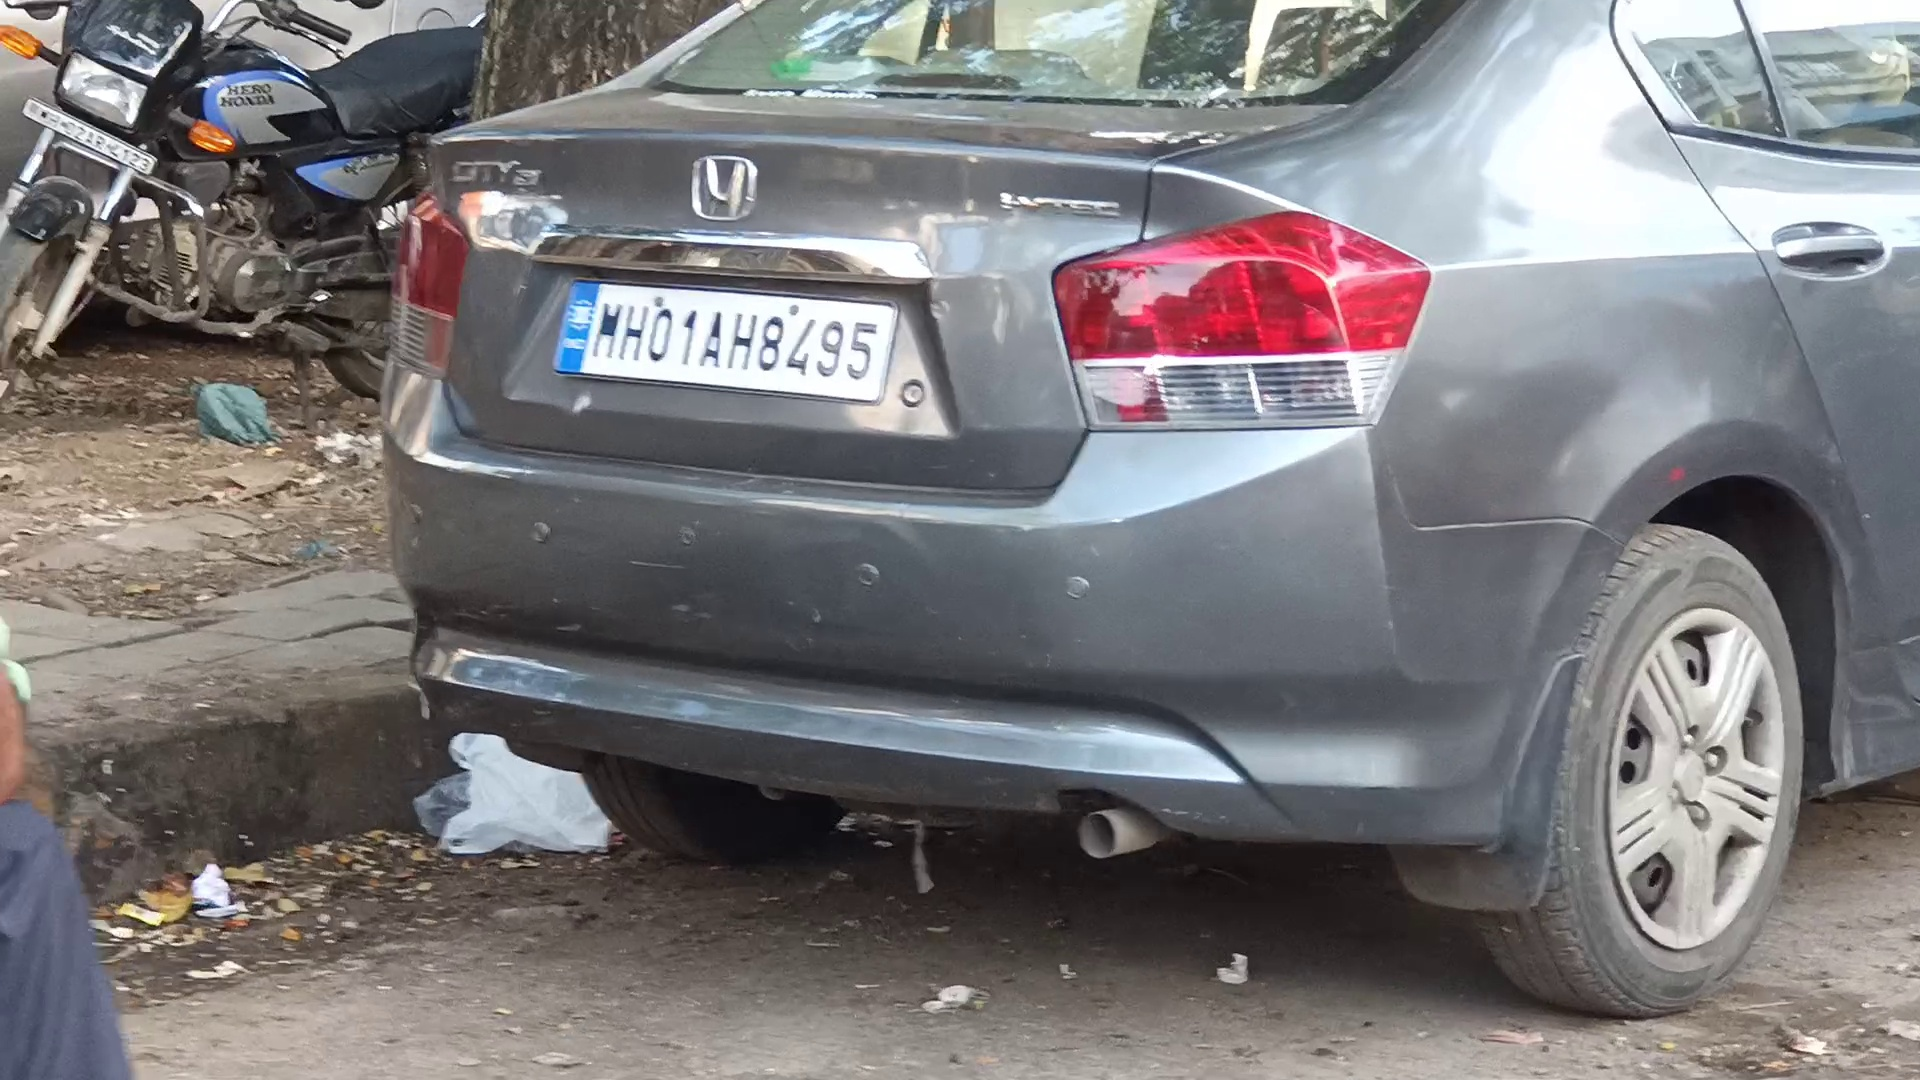MH01AH8495: (552, 276, 900, 406)
